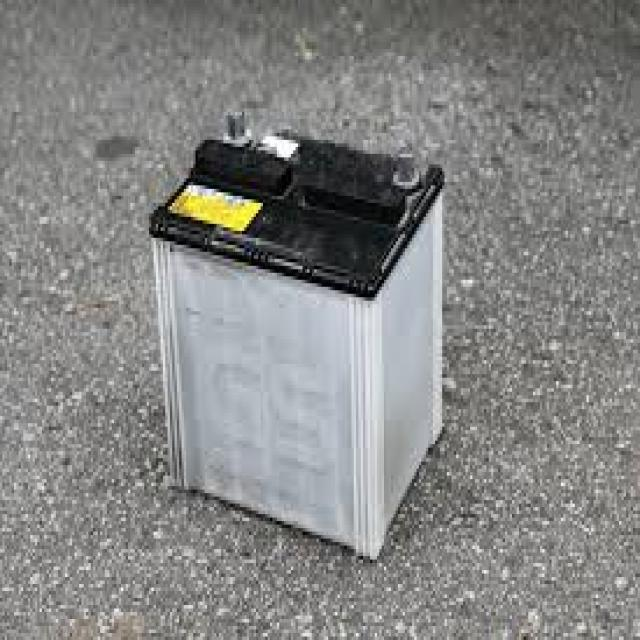battery: (149, 115, 445, 567)
